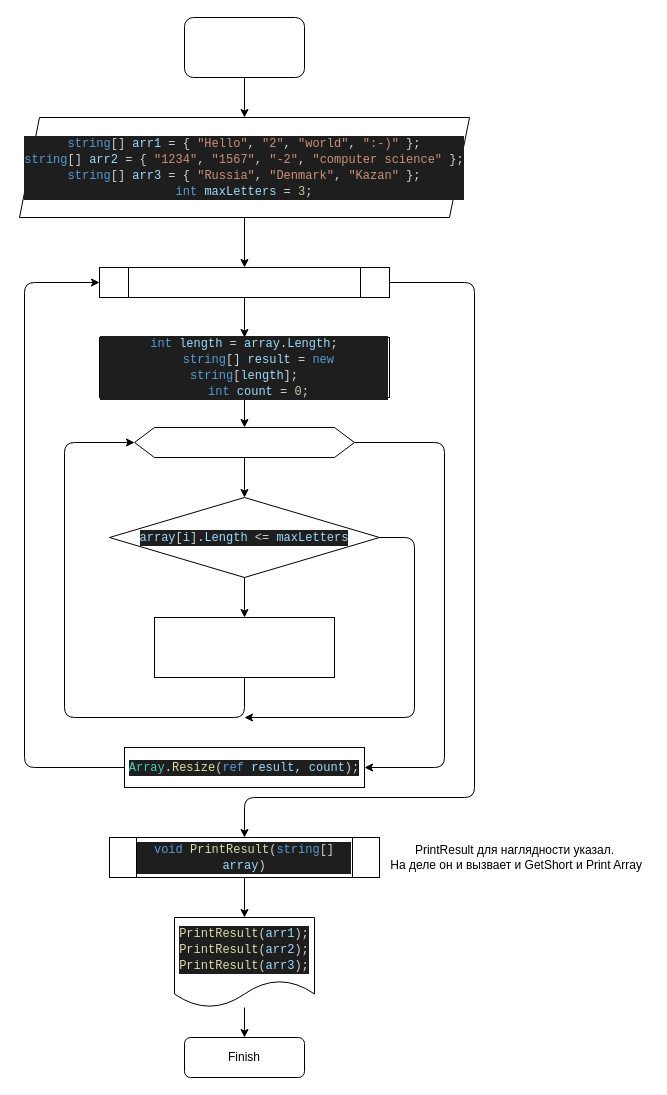
The diagram is 667 pixels wide and 1095 high, and some of its shapes have lost their labels. The centre of each missing label's shape, as x and y in pixels:
int i = 0 ; i < length ; i ++: the point at 244,442
result [ count ] = array [ i ]; count ++;: the point at 244,647
Start: the point at 244,47
string [] GetShort ( string [] array ): the point at 244,282
